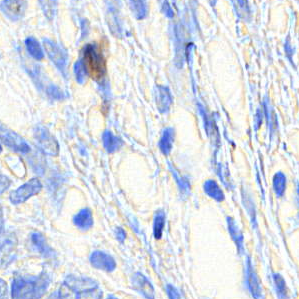Lymphocyte: (82, 45, 109, 83)
